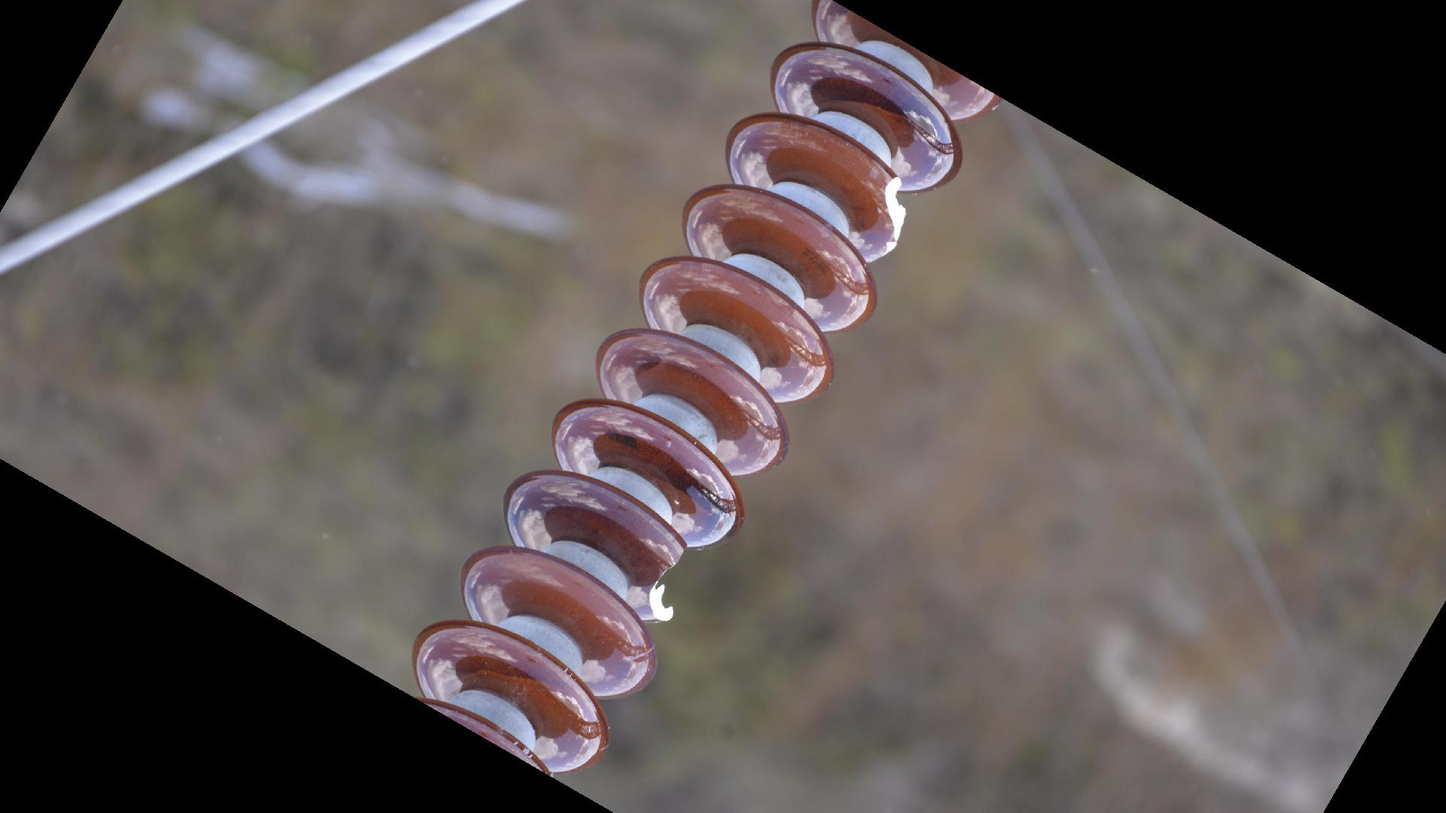insulator: (405, 13, 1006, 781)
insulator_breakage: (862, 169, 915, 273), (641, 538, 694, 632)
